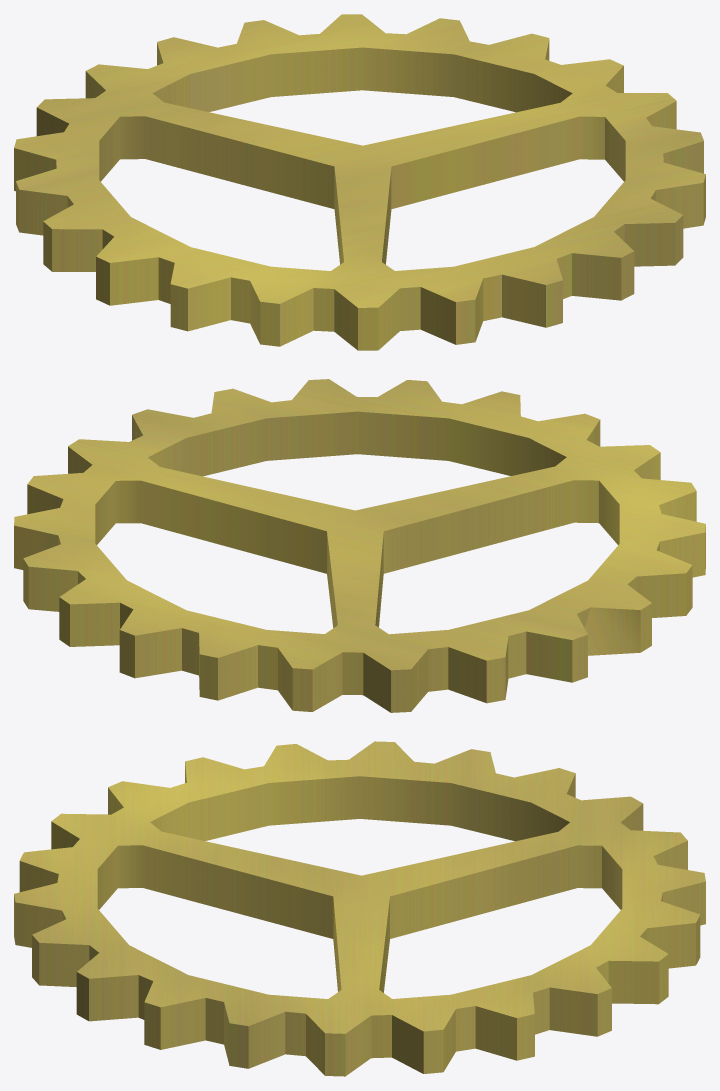
The model's file is Cog3Spoke022.fbx.
3 views of the same model, one above another, from view 1: azimuth 30°, elevation 25°; view 2: azimuth 150°, elevation 25°; view 3: azimuth 270°, elevation 25° (orthographic).
Visible parts, largest first — view 1: Cog3Spoke022; view 2: Cog3Spoke022; view 3: Cog3Spoke022.
Part boxes in pixels (box(x1,y1,x2,y2)): Cog3Spoke022: box(14, 14, 705, 350); Cog3Spoke022: box(14, 379, 705, 712); Cog3Spoke022: box(14, 741, 705, 1076).
Size of the model in its own units: 215 by 14.59 by 215.
